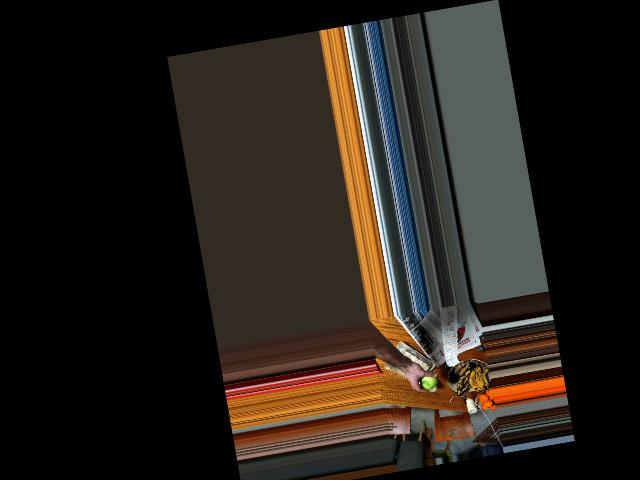apple: (414, 371, 438, 392)
